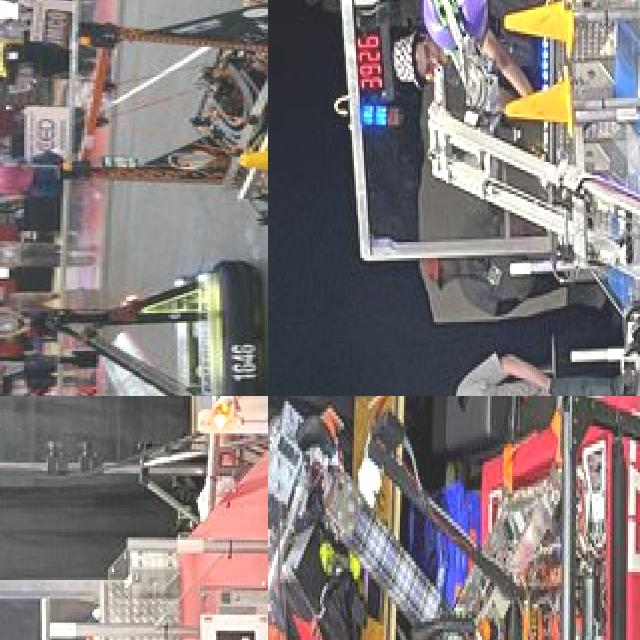FRC-Robots: (396, 0, 640, 396), (268, 396, 640, 640), (38, 0, 268, 269), (0, 248, 268, 396), (100, 396, 268, 553)
